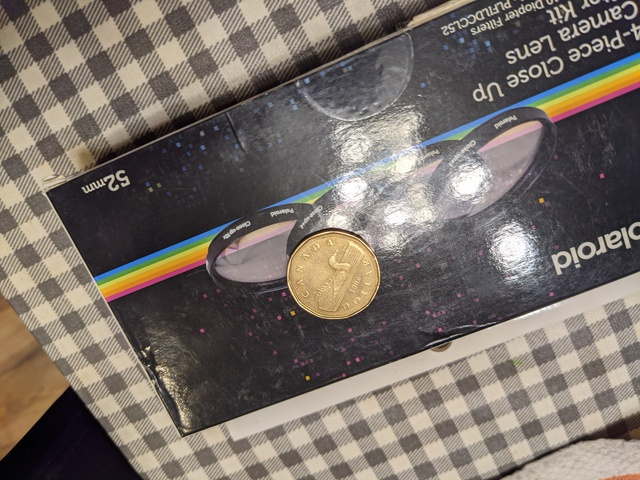loonie: (284, 220, 381, 321)
